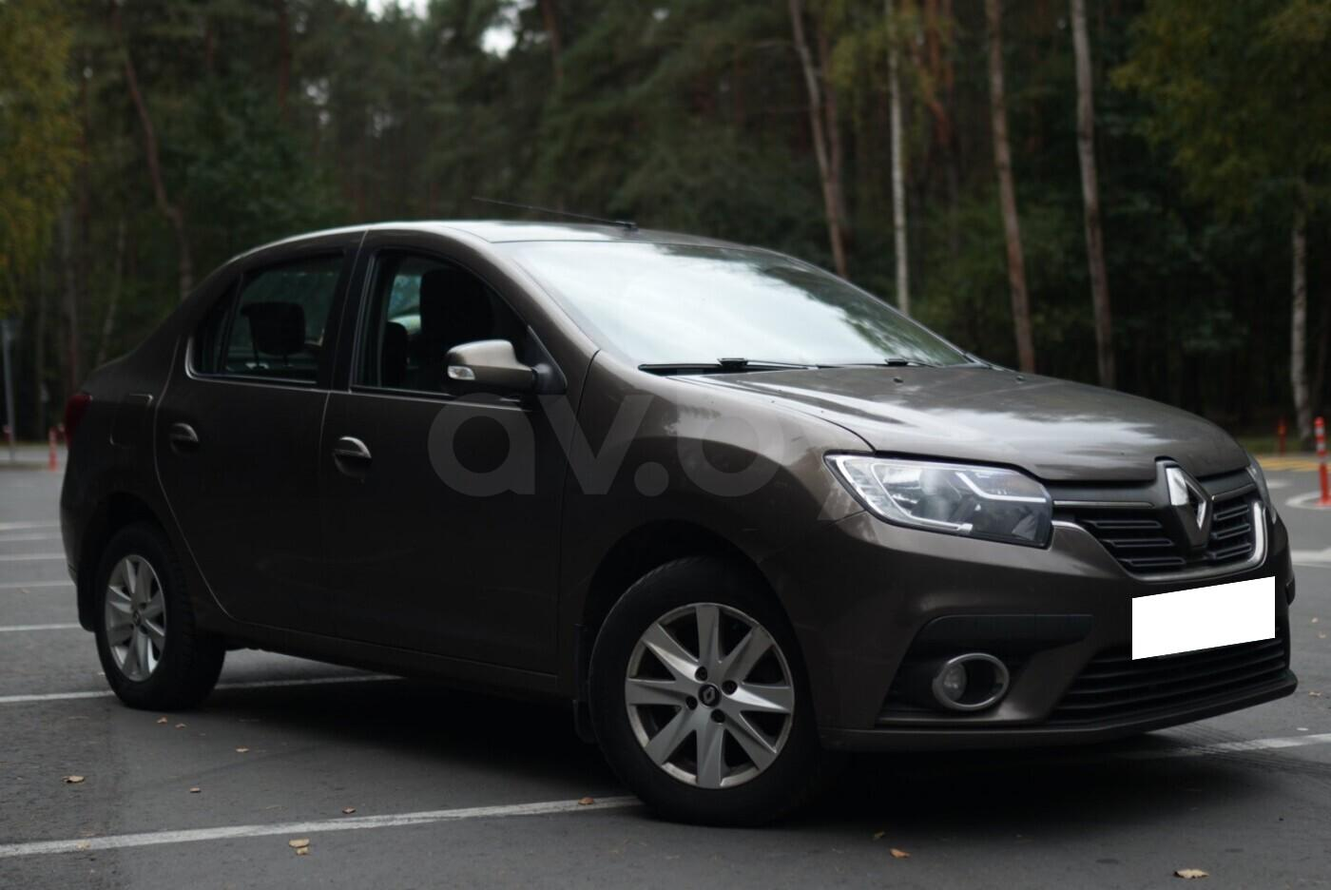Logan_2018: (51, 218, 1307, 808)
